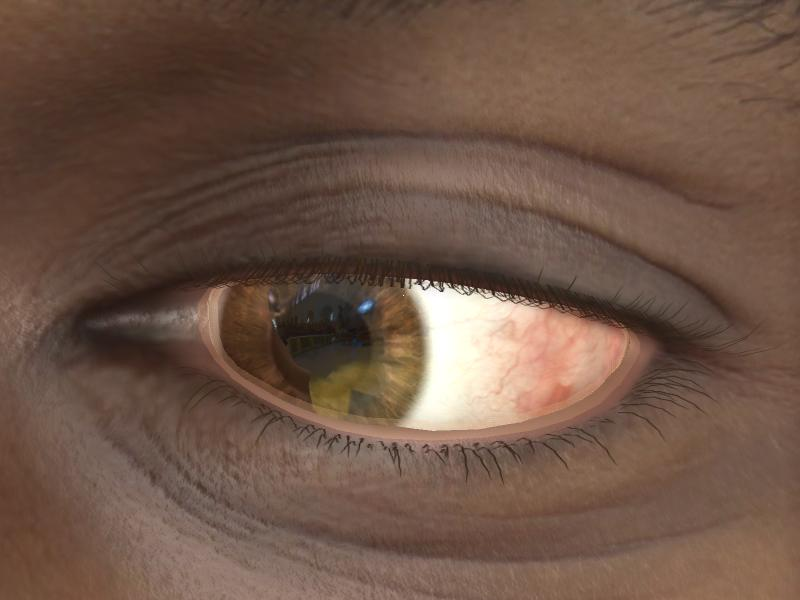eye: (220, 273, 430, 425)
